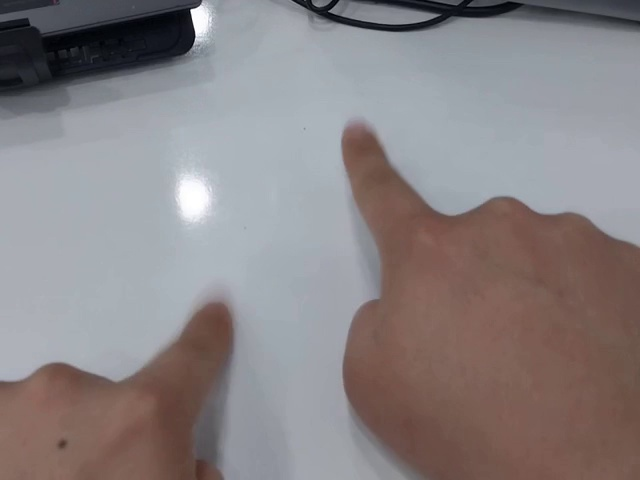fingers: (184, 299, 233, 354), (340, 121, 390, 170)
